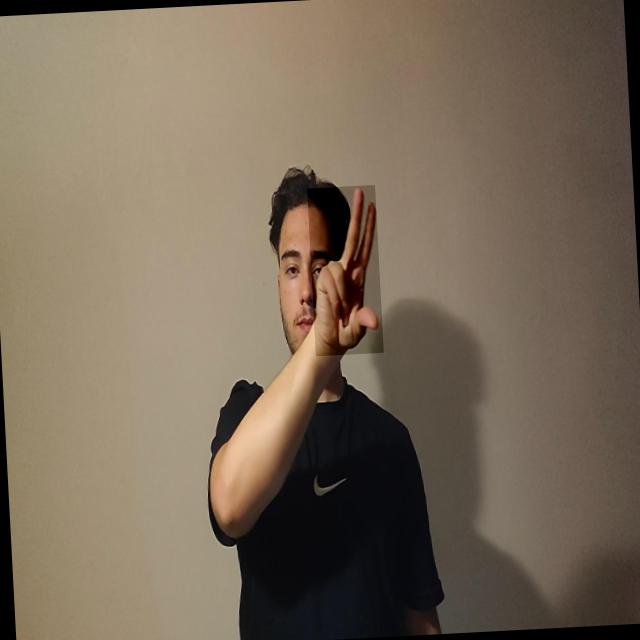no: (308, 185, 384, 356)
